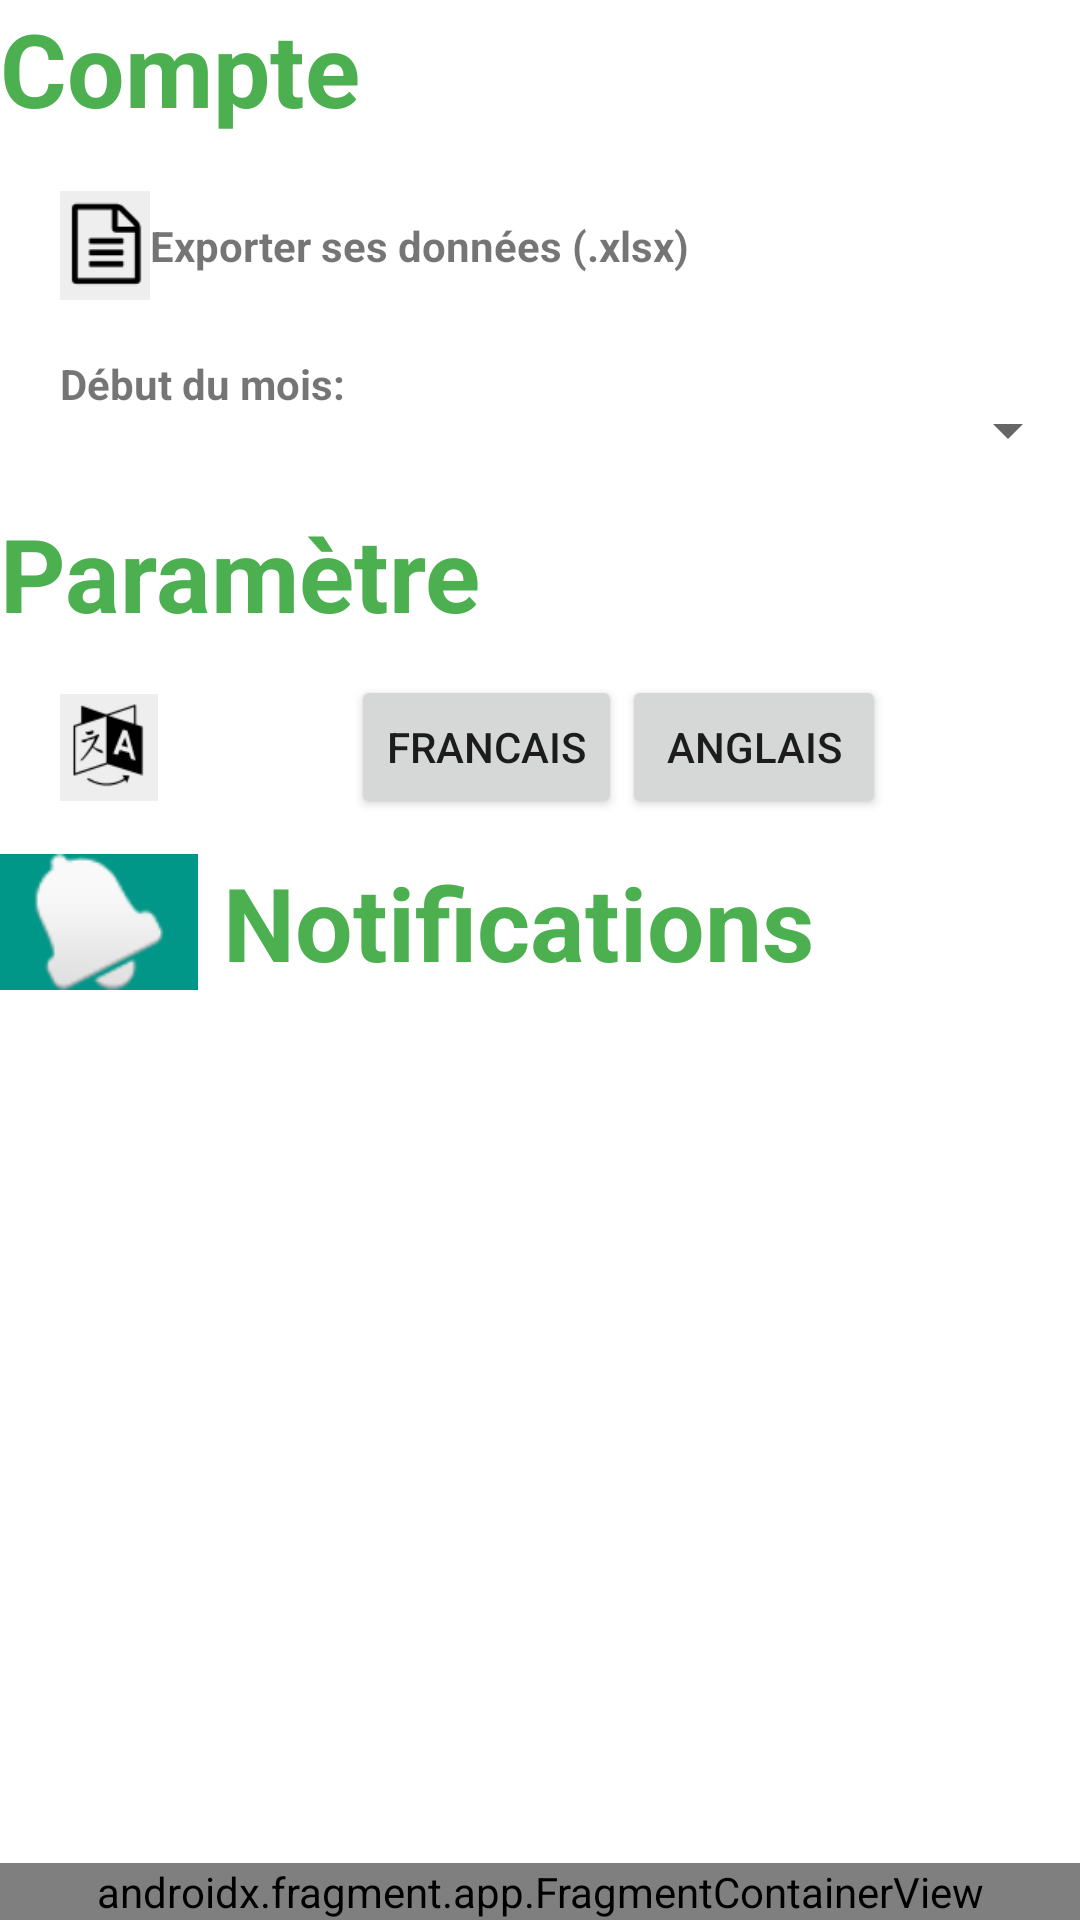

Named icons in this screenshot (1080 × 1920) and their bounding boxes, (x1, y1, x2, y2):
fichier: (71, 202, 142, 286)
popup reminder: (0, 854, 198, 990)
traduction: (73, 704, 144, 787)
